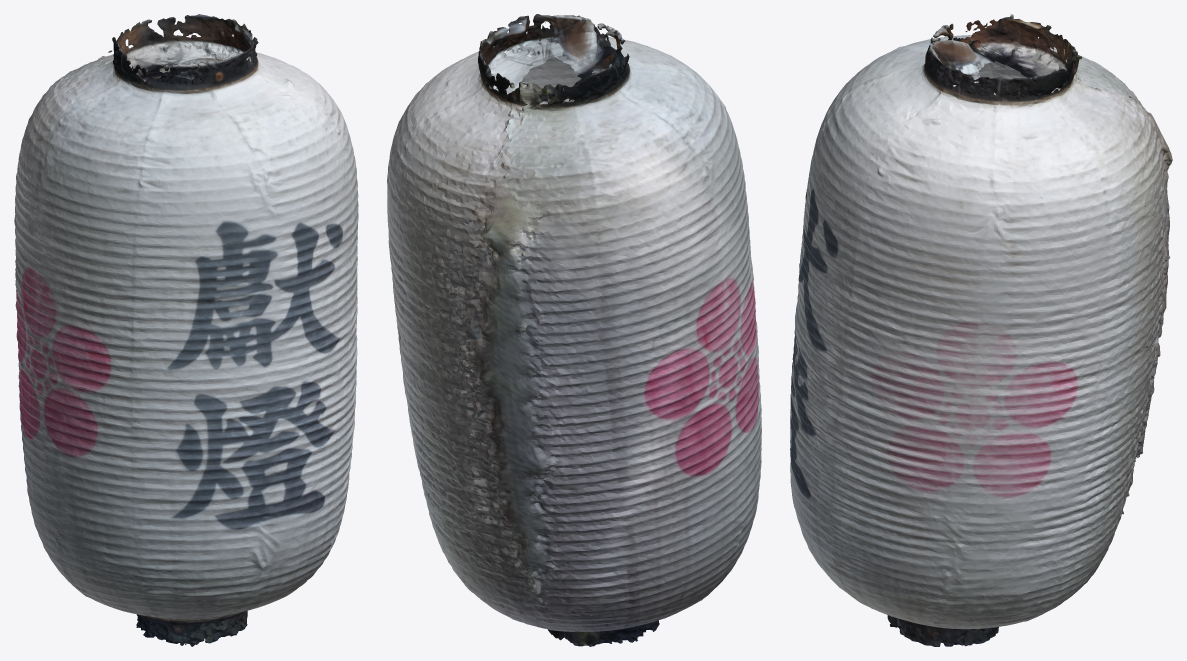
The model's file is lattern.fbx.
3 renders of one model, left to right at view 1: azimuth 30°, elevation 25°; view 2: azimuth 150°, elevation 25°; view 3: azimuth 270°, elevation 25°, orthographic. The views are drawn at different scales.
Parts seen in each view (by area): view 1: Model; view 2: Model; view 3: Model.
Boxes of the visible parts, x1=… form: Model: x1=14, y1=14, x2=358, y2=646; Model: x1=387, y1=14, x2=761, y2=646; Model: x1=790, y1=14, x2=1172, y2=646.
Size of the model in its own units: 2.86 by 3.02 by 5.22.
Materials: 1 (1 with a texture image).
